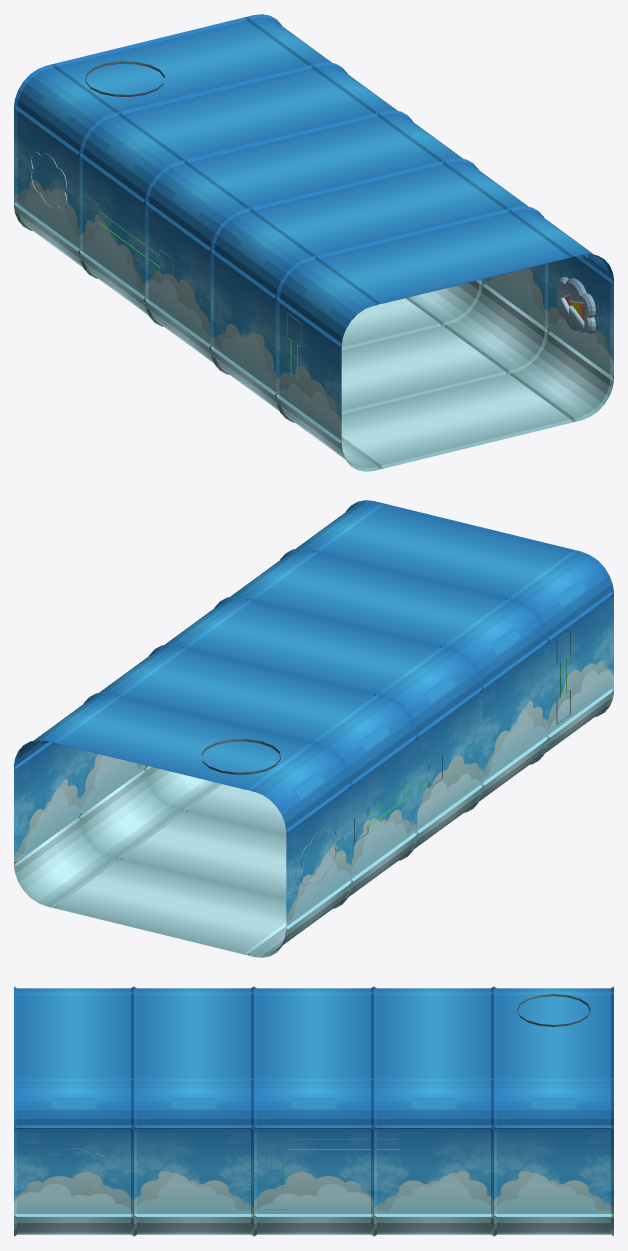
The model's file is Level 3 Room 2 .fbx.
3 renders of one model, top to bottom at view 1: azimuth 30°, elevation 25°; view 2: azimuth 150°, elevation 25°; view 3: azimuth 270°, elevation 25°, orthographic. The views are drawn at different scales.
Visible parts, largest first — view 1: Level 3 Main Body 1.004, Level 3 Main Body 2.002, Level 3 Main Body 1.003, Level 3 Main Body 2.004, Level 3 Main Body 2.005, Level 3 Side Arrow R.001; view 2: Level 3 Main Body 2.005, Level 3 Main Body 2.004, Level 3 Main Body 1.003, Level 3 Main Body 2.002, Level 3 Main Body 1.004; view 3: Level 3 Main Body 1.003, Level 3 Main Body 1.004, Level 3 Main Body 2.002, Level 3 Main Body 2.004, Level 3 Main Body 2.005, Level 3 Wind Turbine.001, Level 3 Pipe 3.001.
Boxes of the visible parts, x1,y1,x2,y2 form: Level 3 Main Body 1.004: (276,206,613,471); Level 3 Main Body 2.002: (210,158,548,414); Level 3 Main Body 1.003: (145,110,482,363); Level 3 Main Body 2.004: (79,62,397,315); Level 3 Main Body 2.005: (14,14,331,266); Level 3 Side Arrow R.001: (556,277,595,334); Level 3 Main Body 2.005: (14,692,351,957); Level 3 Main Body 2.004: (79,644,417,900); Level 3 Main Body 1.003: (145,596,482,849); Level 3 Main Body 2.002: (230,548,548,801); Level 3 Main Body 1.004: (296,500,613,752); Level 3 Main Body 1.003: (254,986,373,1236); Level 3 Main Body 1.004: (14,986,133,1236); Level 3 Main Body 2.002: (134,986,253,1236); Level 3 Main Body 2.004: (374,986,493,1236); Level 3 Main Body 2.005: (494,986,613,1236); Level 3 Wind Turbine.001: (517,994,590,1026); Level 3 Pipe 3.001: (265,1133,424,1209).
Size of the model in its own units: 2117 by 1232 by 4410.
